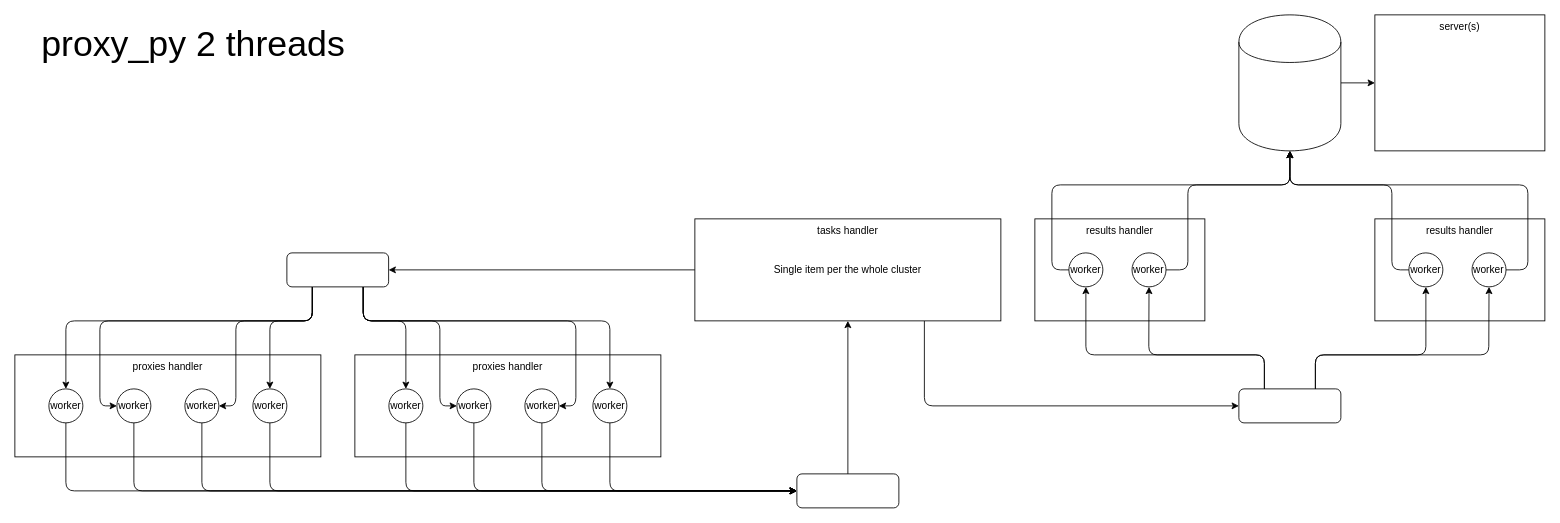
This 1560x523 diagram has some shape labels left out. Here are the shapes that lost their labels. From the top down, the centre of each, then its label:
point (1289, 82): DB
point (337, 269): proxies to check socket
point (1289, 405): results to handle socket
point (847, 490): check results socket
